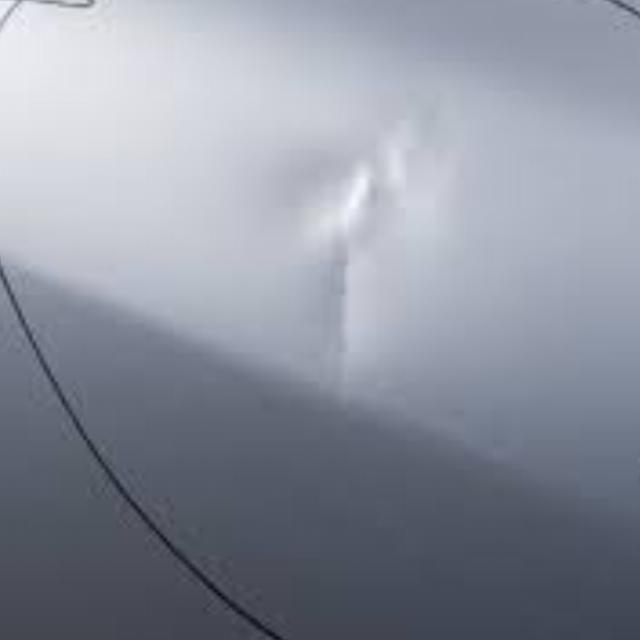dents: (282, 98, 474, 382)
